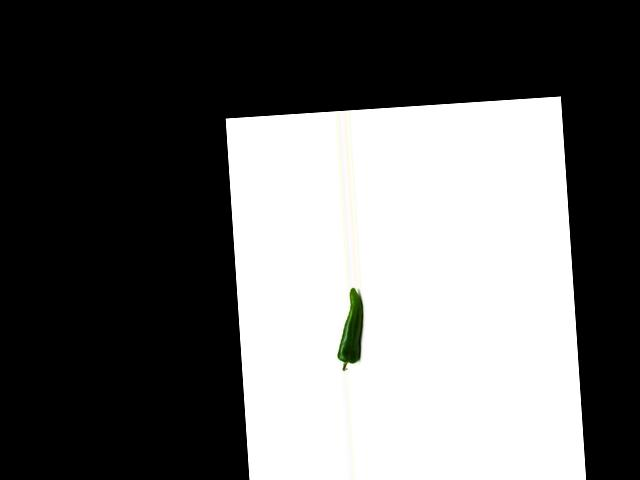bell_pepper: (331, 286, 368, 374)
